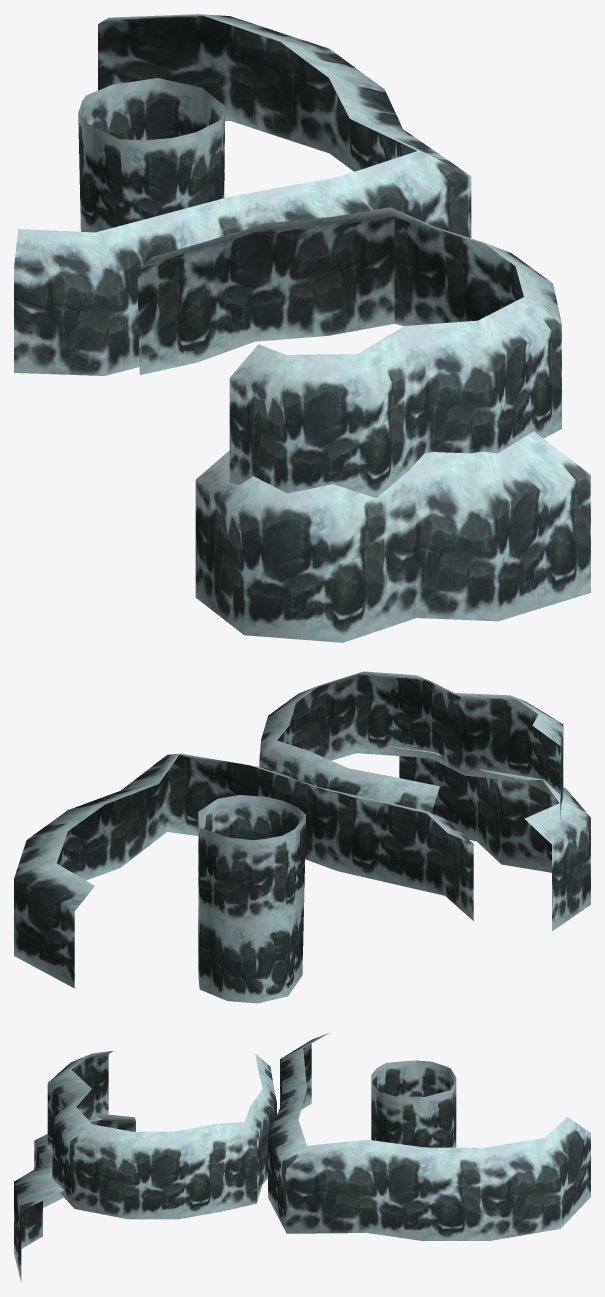
The model's file is section05_guanka07_dimian02.FBX.
3 views of the same model, one above another, from view 1: azimuth 30°, elevation 25°; view 2: azimuth 150°, elevation 25°; view 3: azimuth 270°, elevation 25° (orthographic). The views are drawn at different scales.
Visible parts, largest first — view 1: section05_guanka07_dimian02; view 2: section05_guanka07_dimian02; view 3: section05_guanka07_dimian02.
Boxes of the visible parts, x1=… form: section05_guanka07_dimian02: x1=14, y1=14, x2=590, y2=642; section05_guanka07_dimian02: x1=14, y1=671, x2=590, y2=1003; section05_guanka07_dimian02: x1=14, y1=1032, x2=590, y2=1281.
Bounding box in the file's own units: 78.09 × 139 × 44.76.
